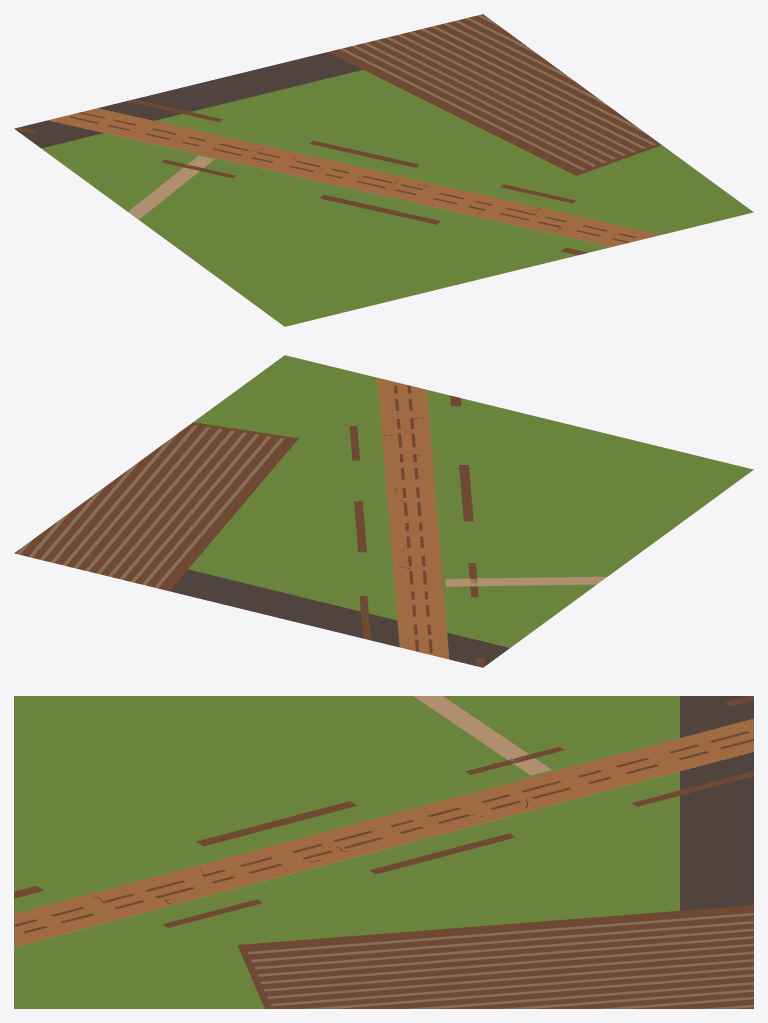
File: crossing-2-5.glb
The picture shows the model from 3 angles, top to bottom: view 1: azimuth 30°, elevation 25°; view 2: azimuth 150°, elevation 25°; view 3: azimuth 270°, elevation 25°; orthographic projection. The views are drawn at different scales.
Parts seen in each view (by area): view 1: crossing-2-5; view 2: crossing-2-5; view 3: crossing-2-5.
Boxes of the visible parts, x1=… form: crossing-2-5: x1=14, y1=14, x2=753, y2=326; crossing-2-5: x1=14, y1=355, x2=753, y2=667; crossing-2-5: x1=14, y1=696, x2=753, y2=1008.
Size of the model in its own units: 100 by 0.0135 by 100.
